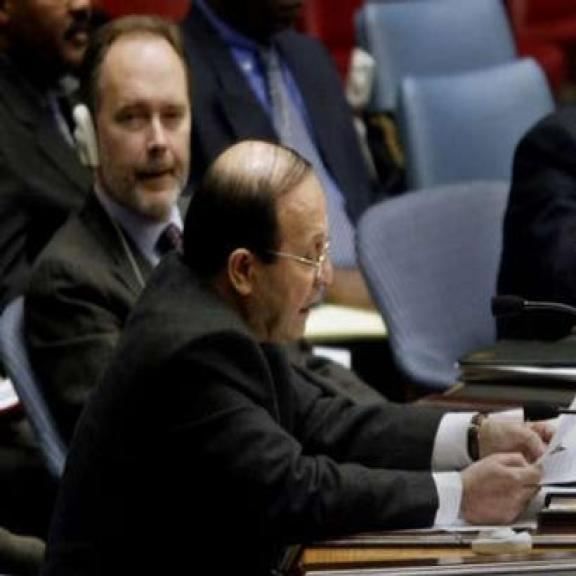face: (228, 169, 333, 354), (98, 49, 193, 225)
